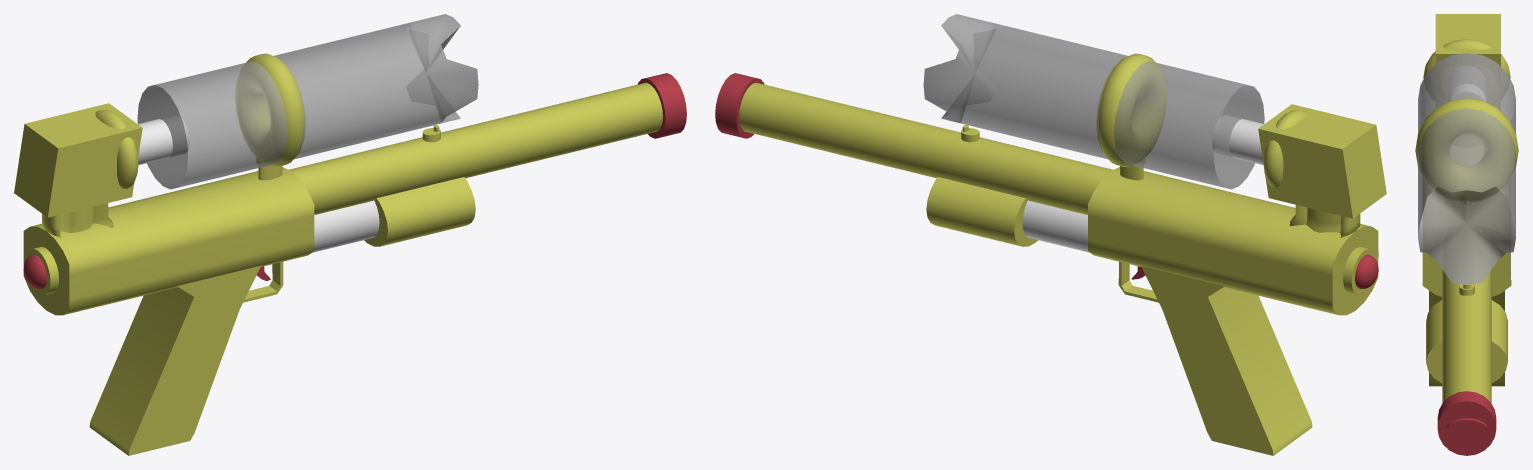
The model's file is Water_Gun_FBX.fbx.
3 renders of one model, left to right at view 1: azimuth 30°, elevation 25°; view 2: azimuth 150°, elevation 25°; view 3: azimuth 270°, elevation 25°, orthographic. The views are drawn at different scales.
Visible parts, largest first — view 1: pCylinder1, pCylinder5, pCylinder3, pCube2, pCube1, pTorus2, pCylinder6, pCylinder4, pCylinder2, pCylinder12, pCylinder8, pTorus3 (+1 smaller); view 2: pCylinder1, pCylinder5, pCylinder3, pCube2, pCube1, pTorus2, pCylinder6, pCylinder4, pCylinder2, pCylinder12, pCylinder8, pTorus3 (+1 smaller); view 3: pCylinder1, pTorus2, pCylinder3, pCube1, pCylinder6, pCylinder12, pCylinder5, pCylinder13, pTorus3, pCube2, pCylinder2, pCylinder11.
Boxes of the visible parts, bbox=[...] form: pCylinder1: bbox=[137, 14, 478, 189]; pCylinder5: bbox=[23, 167, 314, 315]; pCylinder3: bbox=[288, 82, 662, 214]; pCube2: bbox=[89, 265, 260, 455]; pCube1: bbox=[14, 103, 142, 217]; pTorus2: bbox=[235, 53, 305, 166]; pCylinder6: bbox=[364, 177, 475, 246]; pCylinder4: bbox=[312, 200, 379, 252]; pCylinder2: bbox=[138, 115, 189, 165]; pCylinder12: bbox=[637, 73, 686, 138]; pCylinder8: bbox=[42, 203, 113, 294]; pTorus3: bbox=[95, 109, 138, 188]; pCylinder1: bbox=[923, 14, 1264, 189]; pCylinder5: bbox=[1088, 167, 1378, 315]; pCylinder3: bbox=[739, 82, 1113, 214]; pCube2: bbox=[1141, 265, 1312, 455]; pCube1: bbox=[1258, 104, 1386, 218]; pTorus2: bbox=[1096, 53, 1166, 166]; pCylinder6: bbox=[926, 177, 1037, 246]; pCylinder4: bbox=[1022, 200, 1089, 252]; pCylinder2: bbox=[1212, 115, 1263, 164]; pCylinder12: bbox=[715, 73, 764, 138]; pCylinder8: bbox=[1289, 205, 1360, 294]; pTorus3: bbox=[1263, 109, 1306, 187]; pCylinder1: bbox=[1418, 53, 1515, 284]; pTorus2: bbox=[1415, 98, 1518, 202]; pCylinder3: bbox=[1442, 269, 1491, 403]; pCube1: bbox=[1435, 14, 1500, 66]; pCylinder6: bbox=[1426, 300, 1507, 383]; pCylinder12: bbox=[1437, 391, 1496, 455]; pCylinder5: bbox=[1422, 252, 1511, 296]; pCylinder13: bbox=[1446, 418, 1487, 440]; pTorus3: bbox=[1423, 39, 1510, 78]; pCube2: bbox=[1429, 290, 1504, 386]; pCylinder2: bbox=[1447, 84, 1486, 101]; pCylinder11: bbox=[1459, 284, 1474, 295].
Bounding box in the file's own units: 7.39 × 3.76 × 1.05.
